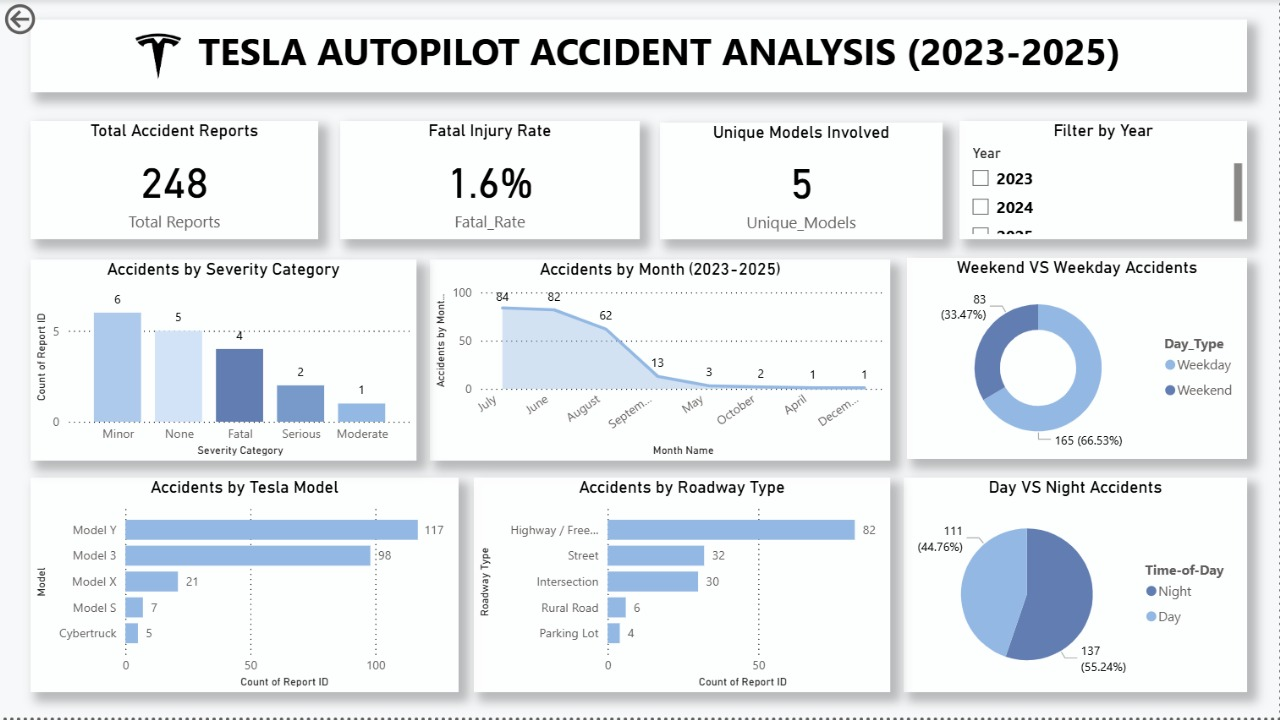

This screenshot's page, from the dashboard's own definition file:
{"tool":"powerbi","page":{"name":"Page 1","canvas":[1280,720],"ordinal":0},"visuals":[{"type":"textbox","box":[30.5,20.3,1218.1,72.8],"z":0},{"type":"card","title":"Total Accident Reports","fields":{"Values":["tesla_clean.Total Reports"]},"box":[29.9,119.8,290.1,119.8],"z":1000},{"type":"actionButton","box":[0,0,100,40],"z":2000},{"type":"card","title":"Unique Models Involved","fields":{"Values":["tesla_clean.Unique_Models"]},"box":[660.7,123.7,282.9,116.9],"z":3000},{"type":"slicer","title":"Filter by Year","fields":{"Values":["tesla_clean.Year"]},"box":[960.6,122,288,118.6],"z":4000},{"type":"card","title":"Fatal Injury Rate","fields":{"Values":["tesla_clean.Fatal_Rate"]},"box":[340.6,119.8,299.4,119.8],"z":5000},{"type":"lineChart","title":"Accidents by Month (2023-2025)","fields":{"Category":["tesla_clean.MonthName"],"Y":["CountNonNull(tesla_clean.Report ID)"]},"box":[430.3,260.9,460.8,201.6],"z":6000},{"type":"donutChart","title":"Weekend VS Weekday Accidents","fields":{"Category":["tesla_clean.Column 3"],"Y":["CountNonNull(tesla_clean.Report ID)"]},"box":[908,259.2,340.5,201.6],"z":7000},{"type":"pieChart","title":"Day VS Night Accidents","fields":{"Y":["CountNonNull(tesla_clean.Report ID)"],"Category":["tesla_clean.Column 4"]},"box":[904.7,479.4,343.9,215.2],"z":8000},{"type":"clusteredBarChart","title":"Accidents by Tesla Model","fields":{"Category":["tesla_clean.Model"],"Y":["CountNonNull(tesla_clean.Report ID)"]},"box":[30.5,479.4,428.6,215.2],"z":9000},{"type":"clusteredBarChart","title":"Accidents by Roadway Type","fields":{"Category":["tesla_clean.Roadway Type"],"Y":["CountNonNull(tesla_clean.Report ID)"]},"box":[474.4,479.4,416.8,215.2],"z":10000},{"type":"clusteredColumnChart","title":"Accidents by Severity Category","fields":{"Category":["tesla_clean.Severity_Category"],"Y":["CountNonNull(tesla_clean.Report ID)"]},"box":[30.5,260.9,386.3,201.6],"z":11000},{"type":"image","box":[127.3,20.6,63.6,73],"z":12000}]}

Visuals, with their boxes in screenshot pixels (x1, y1, x2, y2), scaled from the page's 1280x720 canvas onto the 1280x720 screenshot:
textbox: [left=30, top=20, right=1249, bottom=93]
"Total Accident Reports" card: [left=30, top=120, right=320, bottom=240]
actionButton: [left=0, top=0, right=100, bottom=40]
"Unique Models Involved" card: [left=661, top=124, right=944, bottom=241]
"Filter by Year" slicer: [left=961, top=122, right=1249, bottom=241]
"Fatal Injury Rate" card: [left=341, top=120, right=640, bottom=240]
"Accidents by Month (2023-2025)" lineChart: [left=430, top=261, right=891, bottom=462]
"Weekend VS Weekday Accidents" donutChart: [left=908, top=259, right=1248, bottom=461]
"Day VS Night Accidents" pieChart: [left=905, top=479, right=1249, bottom=695]
"Accidents by Tesla Model" clusteredBarChart: [left=30, top=479, right=459, bottom=695]
"Accidents by Roadway Type" clusteredBarChart: [left=474, top=479, right=891, bottom=695]
"Accidents by Severity Category" clusteredColumnChart: [left=30, top=261, right=417, bottom=462]
image: [left=127, top=21, right=191, bottom=94]
